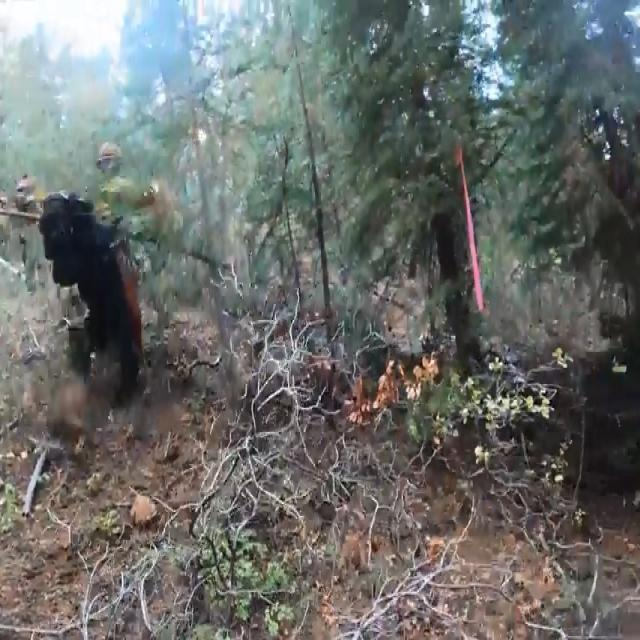Fire: (347, 338, 442, 420)
